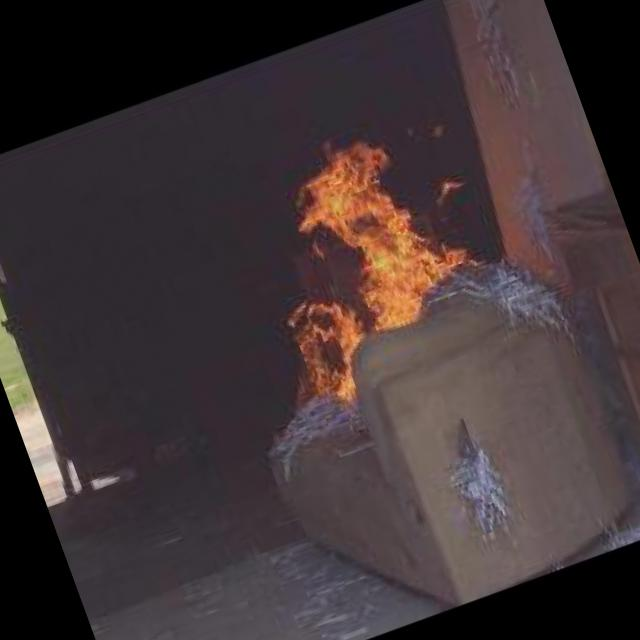fire: (279, 101, 494, 348), (254, 274, 388, 424)
